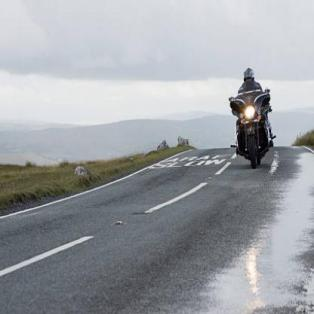Motocicleta: (222, 81, 278, 165)
